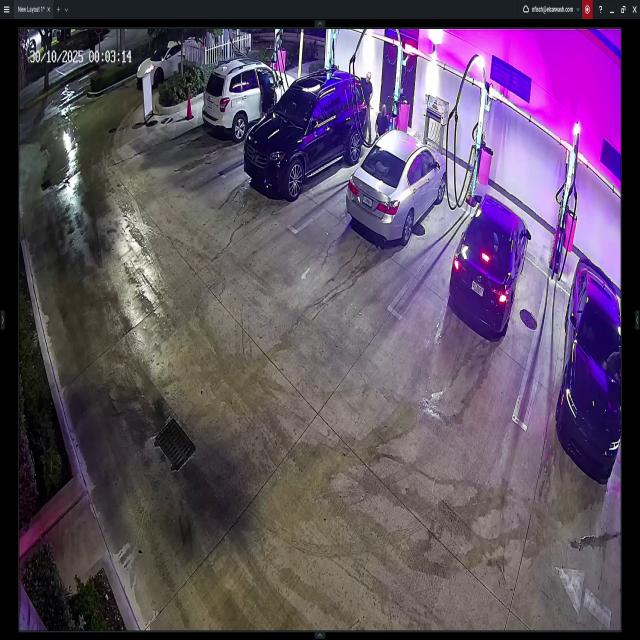Car: (242, 68, 366, 194), (557, 254, 621, 483), (448, 193, 532, 337), (346, 129, 448, 240), (204, 57, 296, 132), (133, 36, 204, 86)
